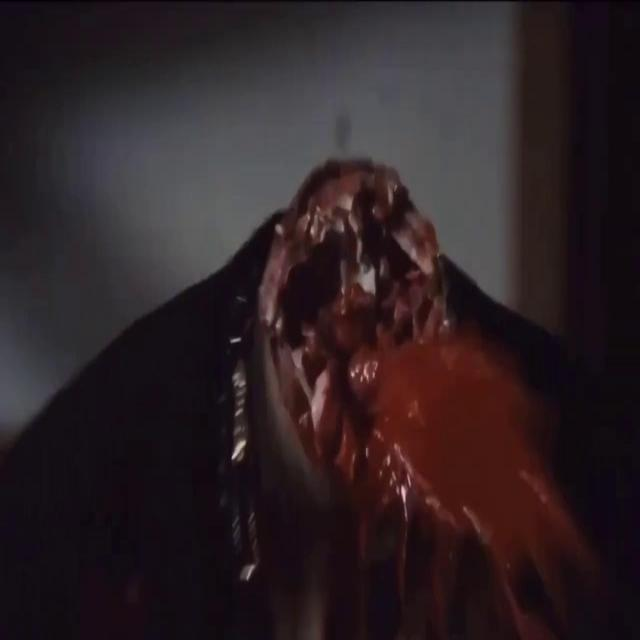flood: (354, 342, 578, 600)
